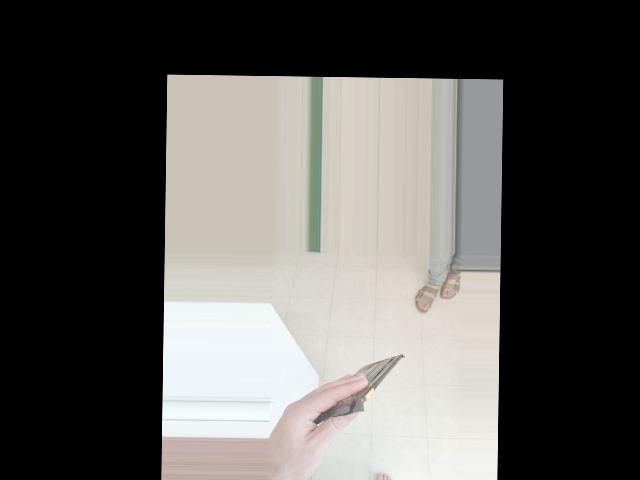chocolate: (369, 306, 452, 407)
